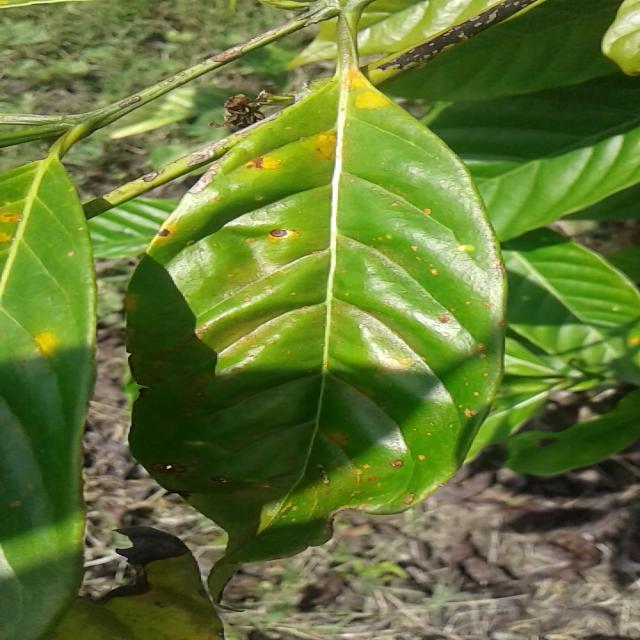Enfermedad-Roya: (123, 57, 511, 567)
